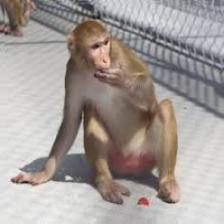monkey: (7, 17, 186, 206)
